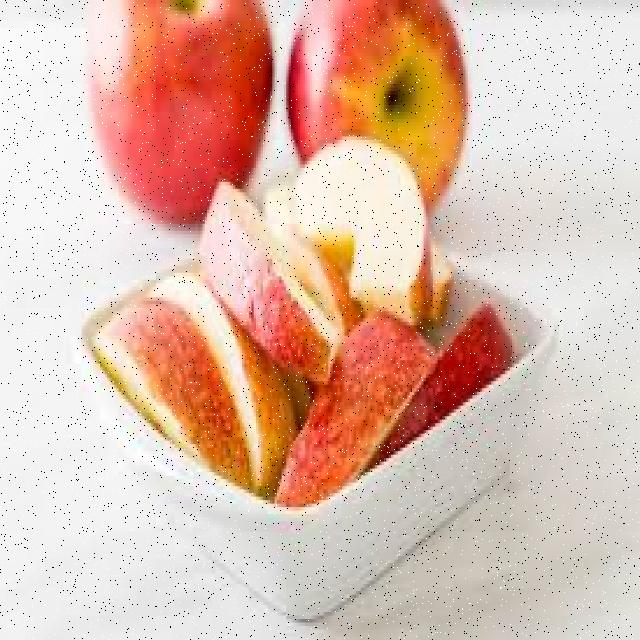Apple: (69, 1, 278, 226), (294, 317, 442, 514), (288, 1, 469, 158), (195, 183, 331, 364), (98, 304, 253, 452), (296, 133, 432, 298), (395, 304, 515, 454)
